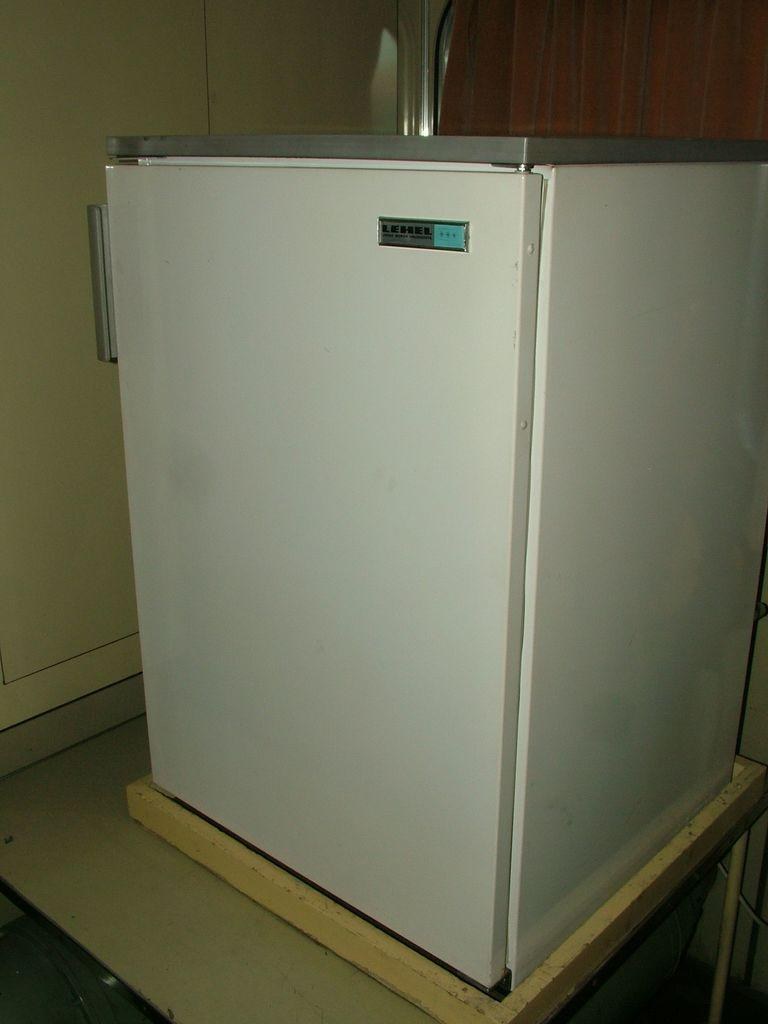handle: (80, 209, 122, 374)
